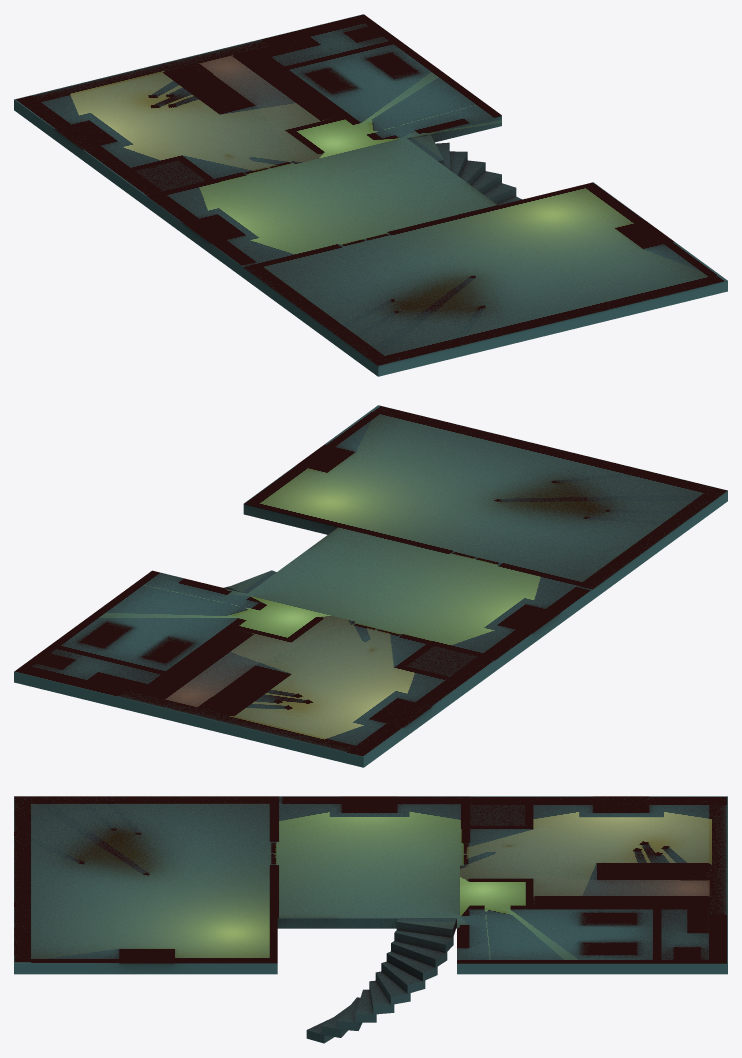
Rendered from floor2_ground.obj.
The picture shows the model from 3 angles, top to bottom: view 1: azimuth 30°, elevation 25°; view 2: azimuth 150°, elevation 25°; view 3: azimuth 270°, elevation 25°; orthographic projection. The views are drawn at different scales.
Visible parts, largest first — view 1: Cube.355_Cube.618; view 2: Cube.355_Cube.618; view 3: Cube.355_Cube.618.
Boxes of the visible parts, x1=… form: Cube.355_Cube.618: x1=14, y1=14, x2=727, y2=376; Cube.355_Cube.618: x1=14, y1=405, x2=727, y2=767; Cube.355_Cube.618: x1=14, y1=796, x2=727, y2=1043.
Size of the model in its own units: 7.74 by 1.99 by 13.95.
2 materials, 2 textured.
